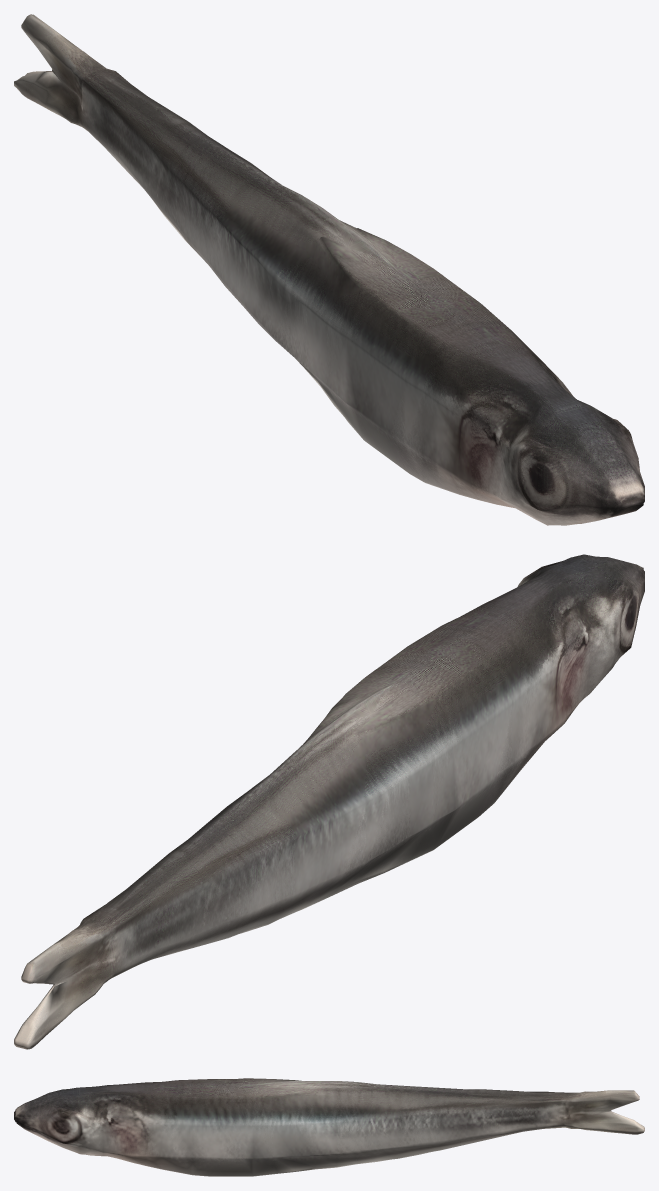
The model's file is Anchois.fbx.
3 renders of one model, top to bottom at view 1: azimuth 30°, elevation 25°; view 2: azimuth 150°, elevation 25°; view 3: azimuth 270°, elevation 25°, orthographic. The views are drawn at different scales.
Visible parts, largest first — view 1: Mesh_0; view 2: Mesh_0; view 3: Mesh_0.
Boxes of the visible parts, x1=… form: Mesh_0: x1=14, y1=14, x2=644, y2=525; Mesh_0: x1=14, y1=554, x2=644, y2=1049; Mesh_0: x1=14, y1=1078, x2=644, y2=1176.
Bounding box in the file's own units: 19.96 × 30.92 × 191.
Materials: 1 (1 with a texture image).
